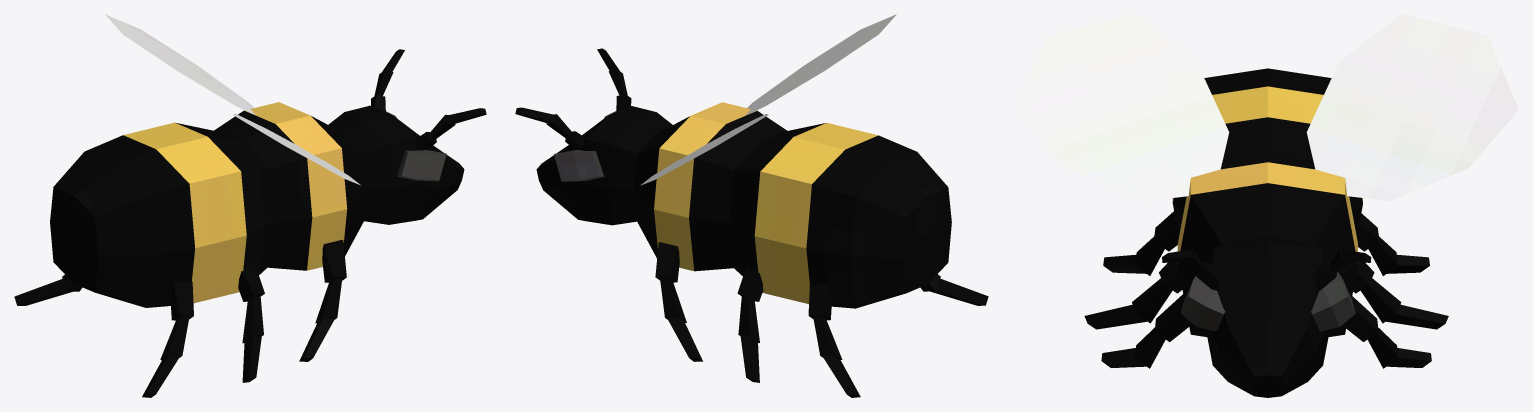
The model's file is CHAHIN_BUMBLEBEE.obj.
3 views of the same model, side by side, from view 1: azimuth 30°, elevation 25°; view 2: azimuth 150°, elevation 25°; view 3: azimuth 270°, elevation 25° (orthographic). The views are drawn at different scales.
Visible parts, largest first — view 1: Cube.001_Cube.017; view 2: Cube.001_Cube.017; view 3: Cube.001_Cube.017.
Part boxes in pixels (x1,y1,x2,y2): Cube.001_Cube.017: [14, 14, 486, 397]; Cube.001_Cube.017: [515, 14, 988, 397]; Cube.001_Cube.017: [1017, 14, 1518, 397].
Size of the model in its own units: 0.7608 by 0.4845 by 0.7008.
1 material, 1 textured.
